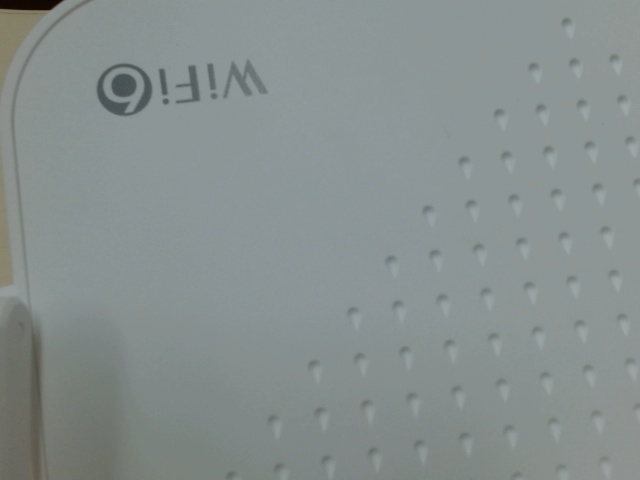AK_ZTEWIFI6: (88, 52, 272, 120)
